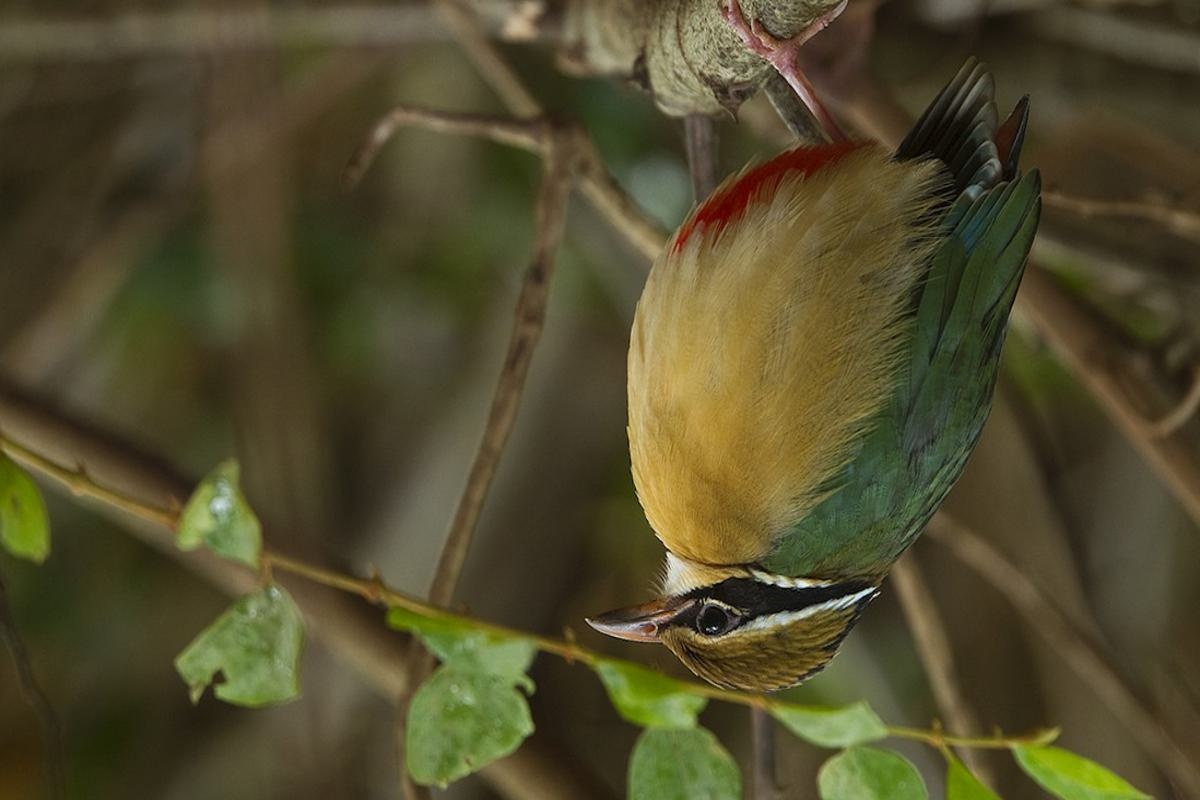pitta: (549, 28, 1108, 743)
